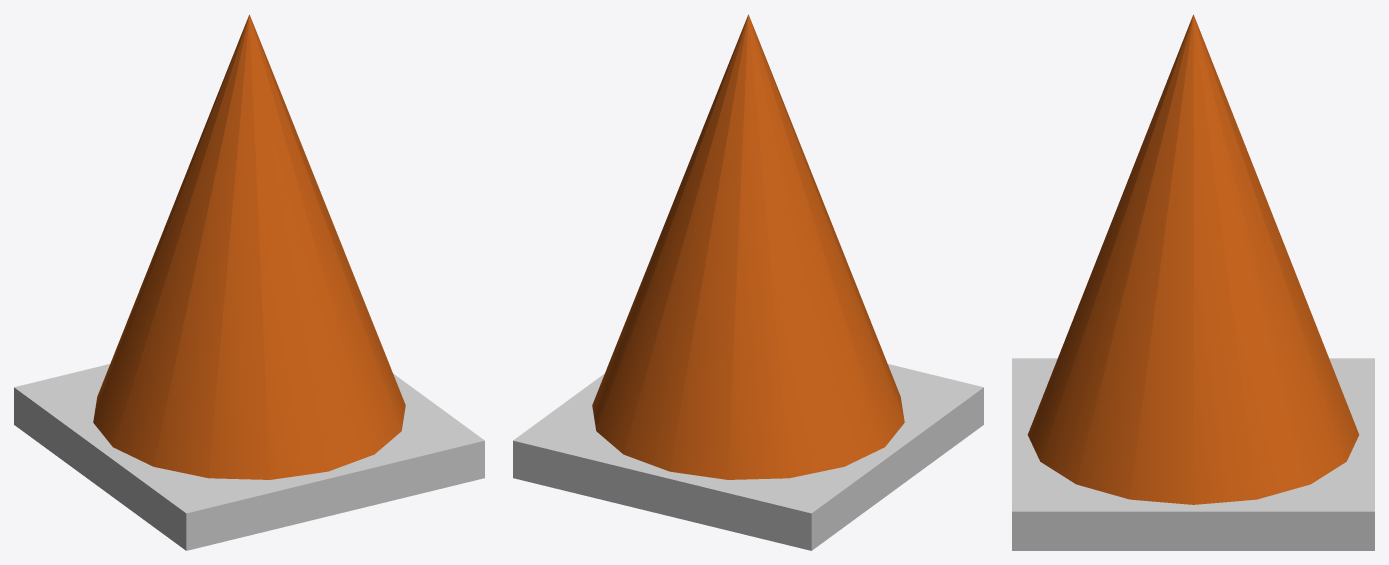
3 renders of one model, left to right at view 1: azimuth 30°, elevation 25°; view 2: azimuth 150°, elevation 25°; view 3: azimuth 270°, elevation 25°, orthographic. The views are drawn at different scales.
Parts seen in each view (by area): view 1: cone-2; view 2: cone-2; view 3: cone-2.
Part boxes in pixels (x1,y1,x2,y2): cone-2: [14, 14, 484, 550]; cone-2: [513, 14, 983, 550]; cone-2: [1012, 14, 1374, 550].
Bounding box in the file's own units: 0.5 × 0.7 × 0.5.
